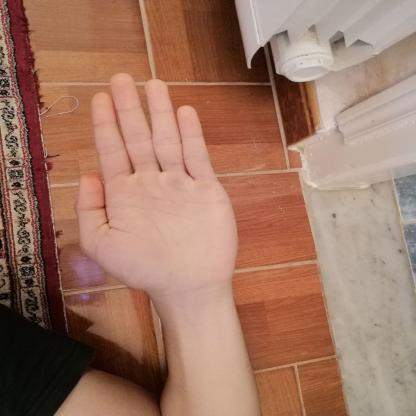SEEN: (64, 62, 246, 303)
